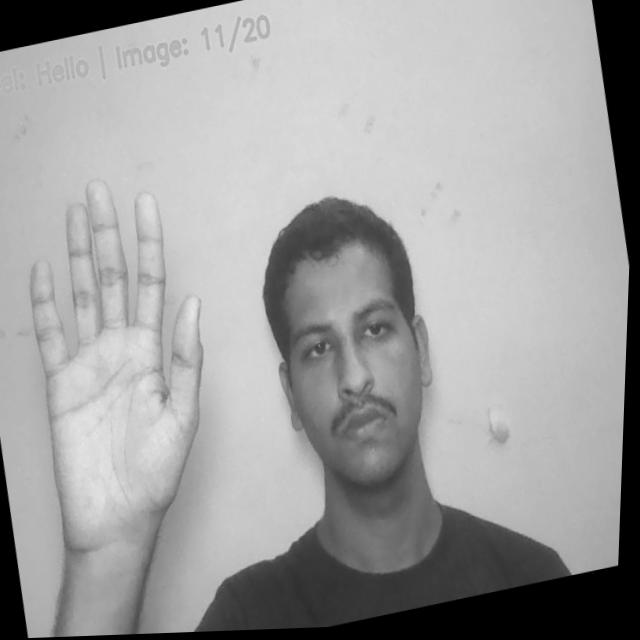Hello: (5, 159, 247, 546)
